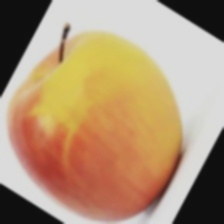apple: (14, 23, 167, 224)
